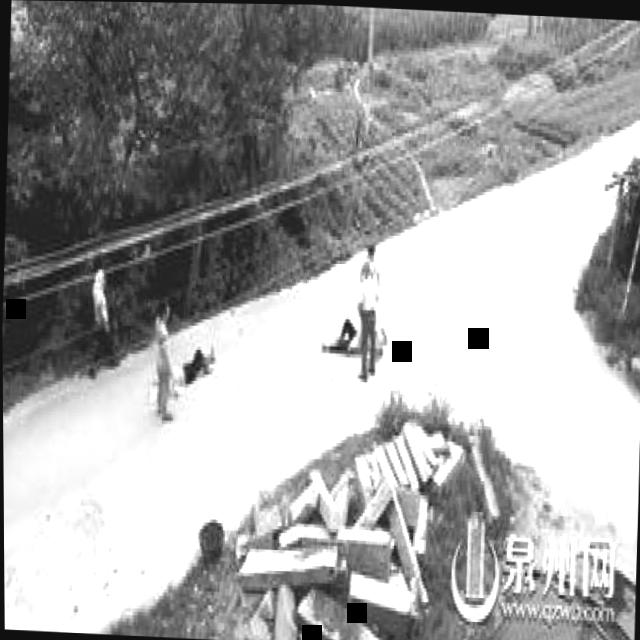Fall-Detected: (313, 299, 365, 353)
